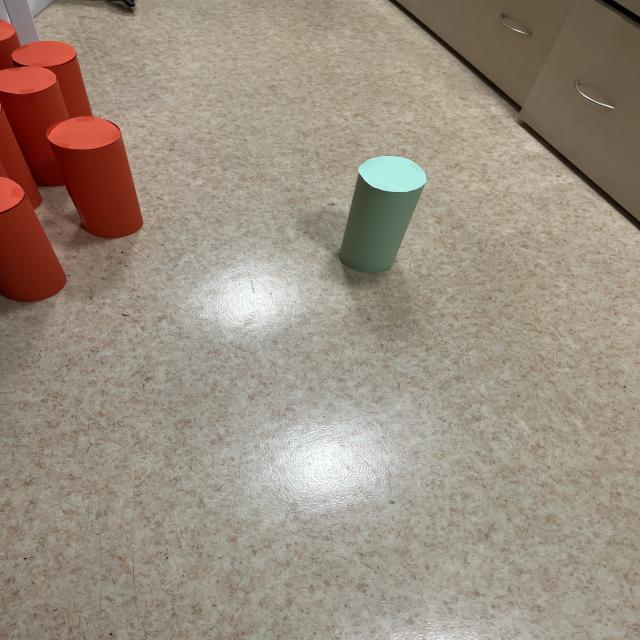meta: (340, 156, 426, 273)
